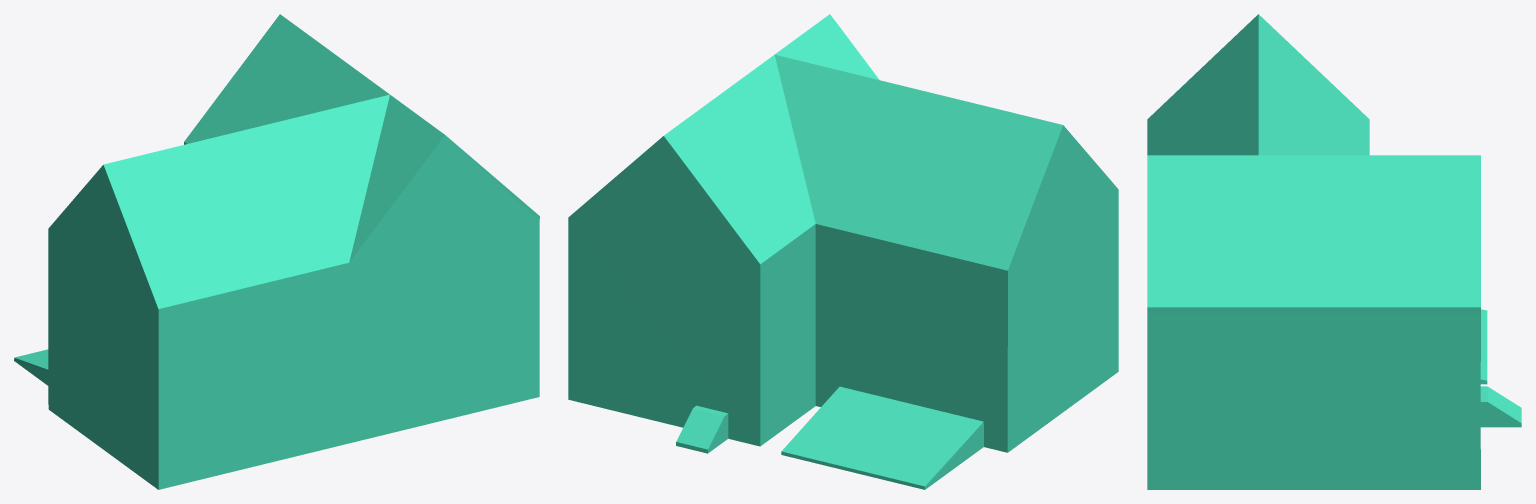
The model's file is SubUrb1_Collision.fbx.
The picture shows the model from 3 angles, left to right: view 1: azimuth 30°, elevation 25°; view 2: azimuth 150°, elevation 25°; view 3: azimuth 270°, elevation 25°; orthographic projection.
Visible parts, largest first — view 1: SubUrb1_Collision; view 2: SubUrb1_Collision; view 3: SubUrb1_Collision.
Boxes of the visible parts, <box> form: SubUrb1_Collision: <box>14,14,539,489</box>; SubUrb1_Collision: <box>568,14,1118,489</box>; SubUrb1_Collision: <box>1147,14,1521,489</box>.
Bounding box in the file's own units: 15.94 × 11.39 × 13.42.
